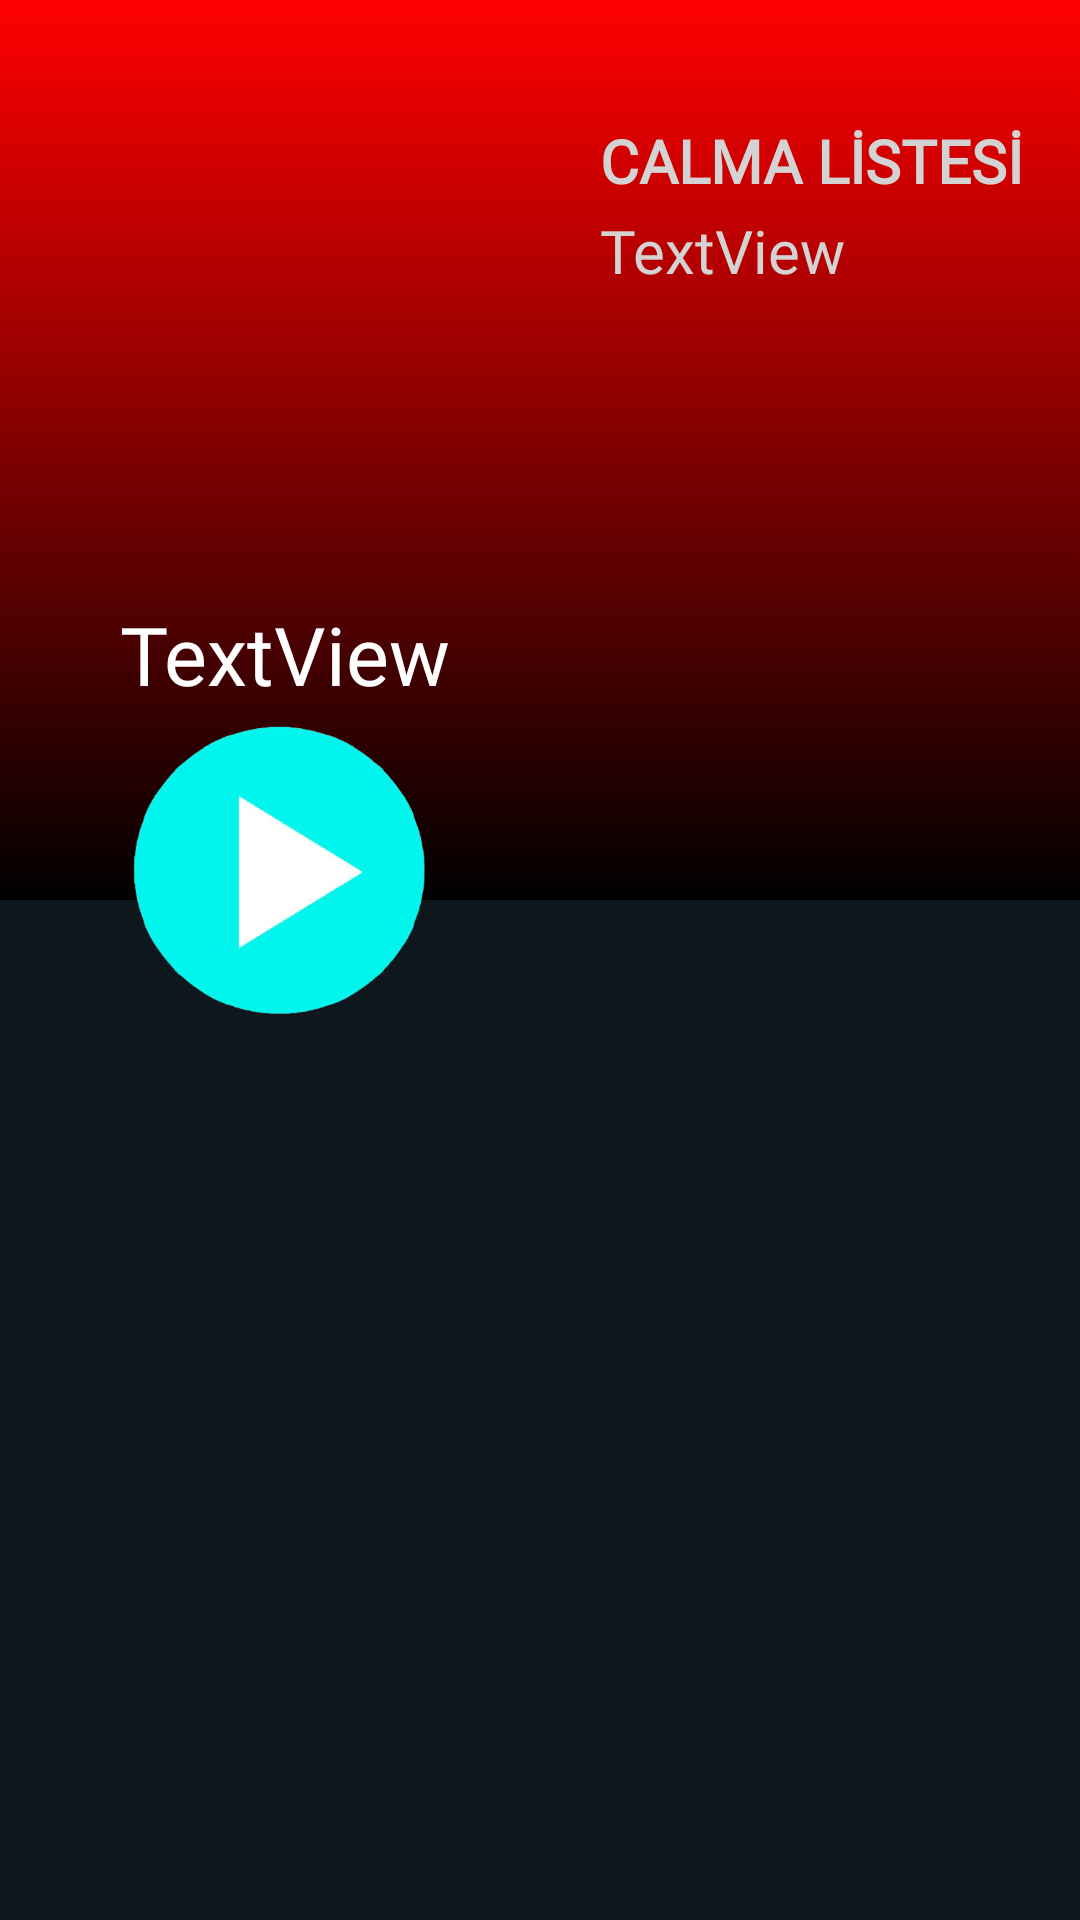

Point at icon controls on the screen. Image size 1080px x 1920px, points as [x,y].
iconplay: [279,870]
